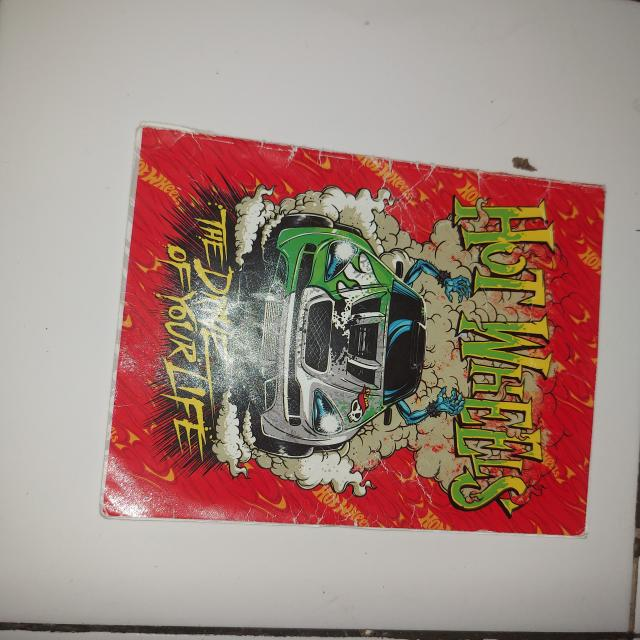Organik: (96, 125, 606, 537)
